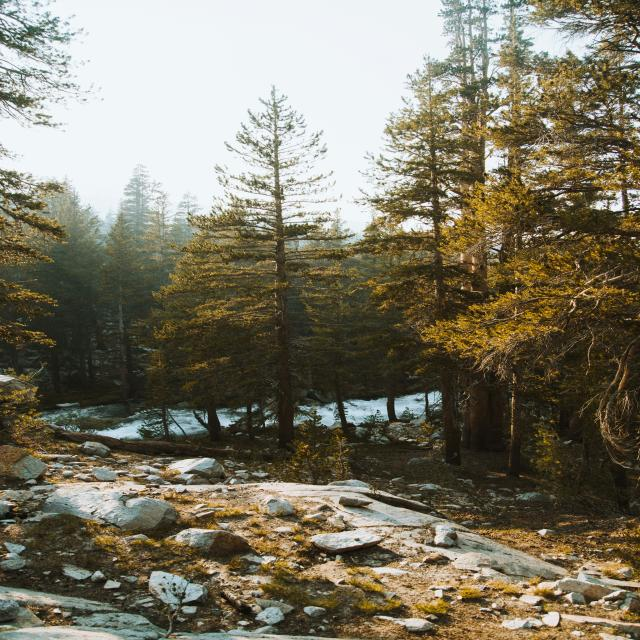Forest: (0, 120, 640, 640)
